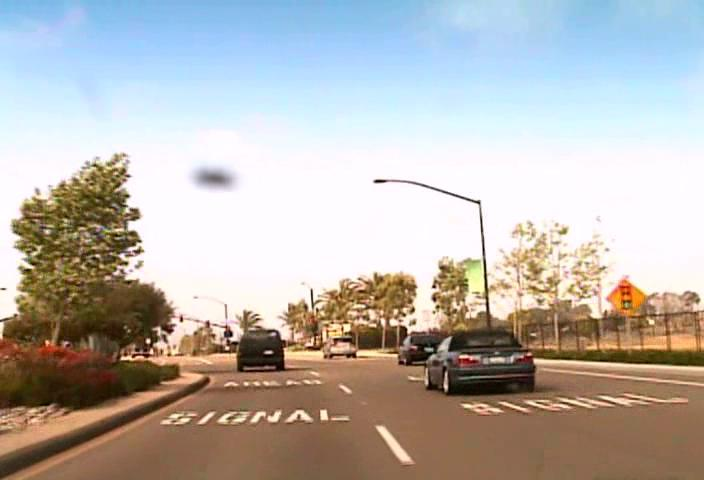signalAhead: (605, 277, 646, 317)
